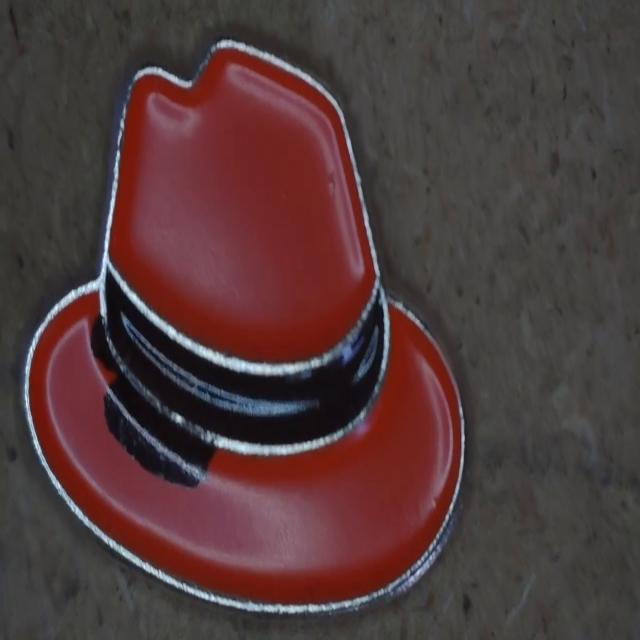Hatband: (104, 264, 390, 460)
Paint_Leak: (91, 318, 215, 487)
RedHatPin: (27, 38, 466, 607)
